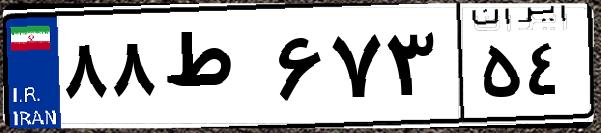3: (385, 28, 445, 110)
4: (525, 38, 570, 115)
5: (475, 38, 525, 113)
6: (270, 28, 330, 110)
7: (330, 28, 385, 110)
8: (57, 26, 110, 100), (110, 28, 158, 98)
ط: (158, 20, 270, 120)
